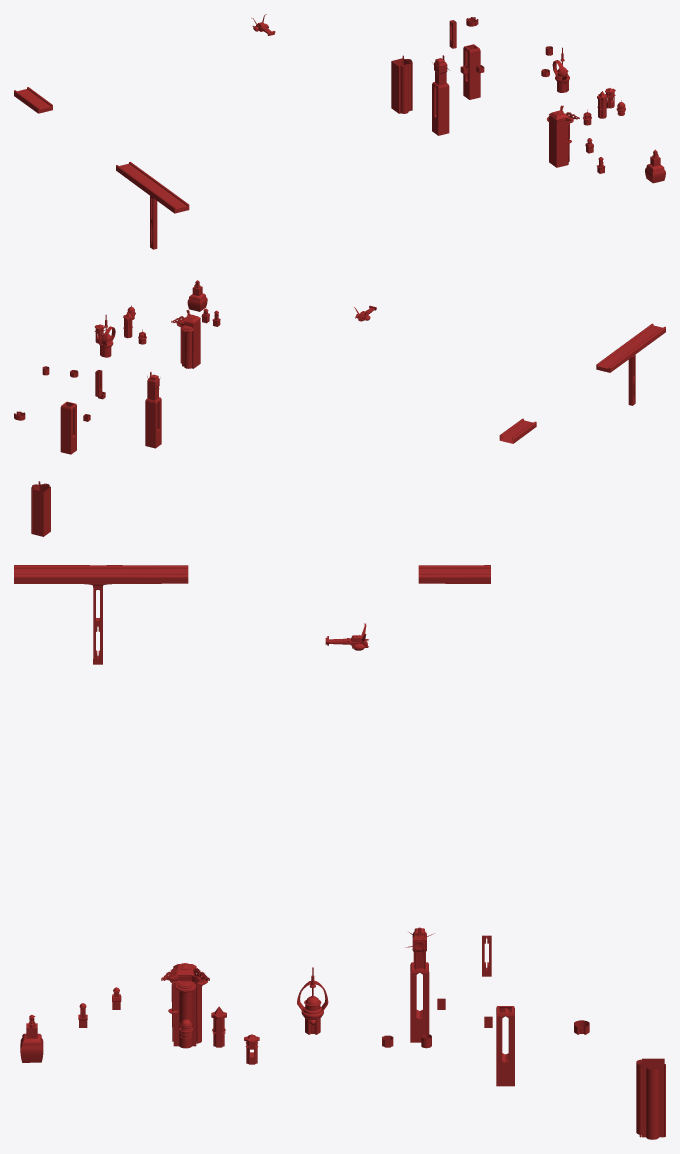
File: ForeGroundLow.fbx
The picture shows the model from 3 angles, top to bottom: view 1: azimuth 30°, elevation 25°; view 2: azimuth 150°, elevation 25°; view 3: azimuth 270°, elevation 25°; orthographic projection. The views are drawn at different scales.
Parts seen in each view (by area): view 1: Bridge_high, ClockTower_high, Gear_high, GearBottom_high, ClockBottom_high, polySurface806, Curve_high, ArchBuilding_high; view 2: Bridge_high, Gear_high, ClockTower_high, GearBottom_high, ClockBottom_high, polySurface806, Curve_high, ArchBuilding_high; view 3: Bridge_high, Gear_high, GearBottom_high, ClockTower_high, polySurface806, ClockBottom_high, ArchBuilding_high, Curve_high.
Part boxes in pixels (x1,y1,x2,y2): Bridge_high: (116,161,189,249); ClockTower_high: (432,55,450,135); Gear_high: (547,105,579,167); GearBottom_high: (391,55,412,113); ClockBottom_high: (463,44,480,99); polySurface806: (14,87,52,113); Curve_high: (645,149,665,183); ArchBuilding_high: (552,47,569,92); Bridge_high: (596,323,665,405); Gear_high: (171,310,200,368); ClockTower_high: (145,372,161,448); GearBottom_high: (31,481,50,536); ClockBottom_high: (60,401,76,454); polySurface806: (499,418,536,443); Curve_high: (187,280,207,311); ArchBuilding_high: (99,314,115,357); Bridge_high: (14,565,188,664); Gear_high: (161,963,209,1048); GearBottom_high: (636,1058,665,1139); ClockTower_high: (406,927,434,1042); polySurface806: (418,565,490,583); ClockBottom_high: (496,1006,514,1086); ArchBuilding_high: (297,967,328,1034); Curve_high: (20,1015,43,1062).
Bounding box in the file's own units: 708 × 290 × 518.
